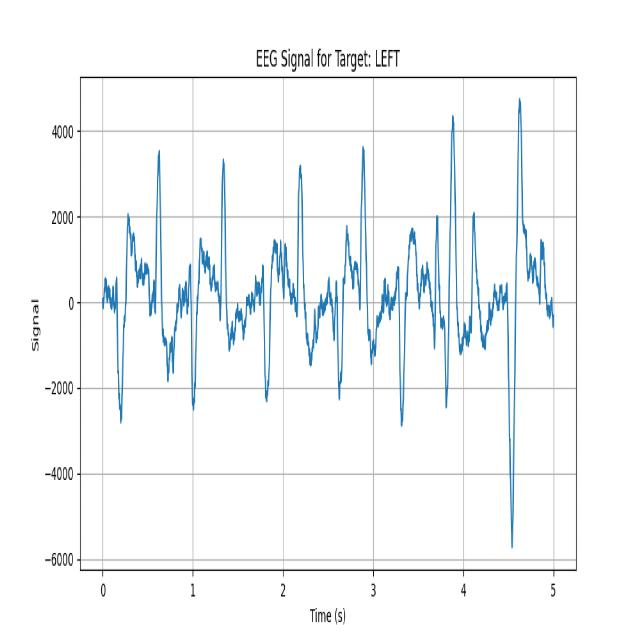LEFT: (184, 130, 262, 431), (262, 134, 338, 419), (337, 133, 399, 427), (127, 129, 186, 428), (435, 118, 487, 449)
